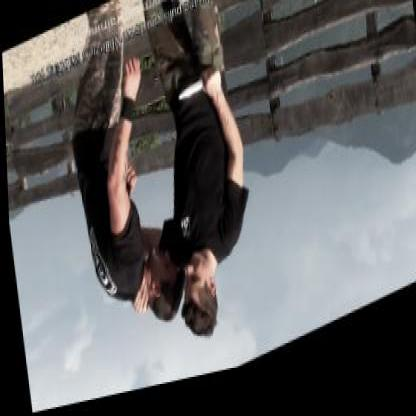knife: (172, 66, 222, 117)
